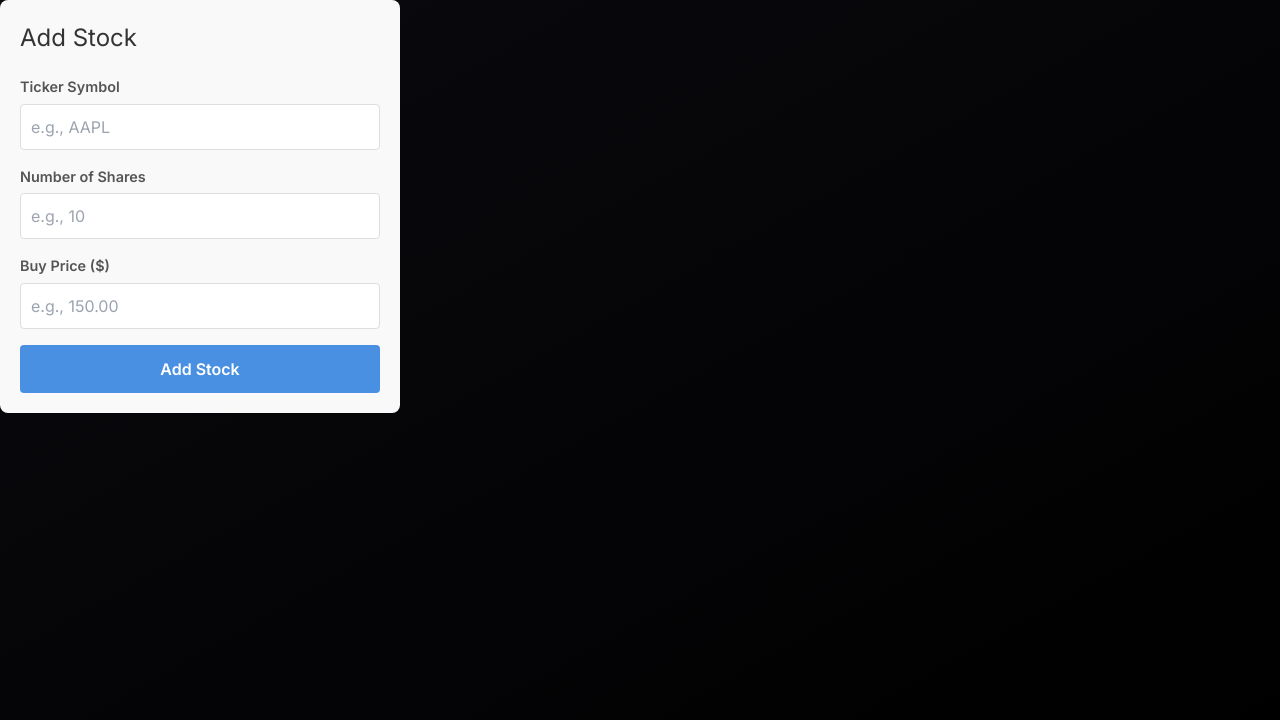
AddStockForm › Validation - Empty Fields (Requirement 4.1) › should show error when ticker is empty
Step 1. Click the button "Add Stock" → click(200, 369), box [20,345,380,393]
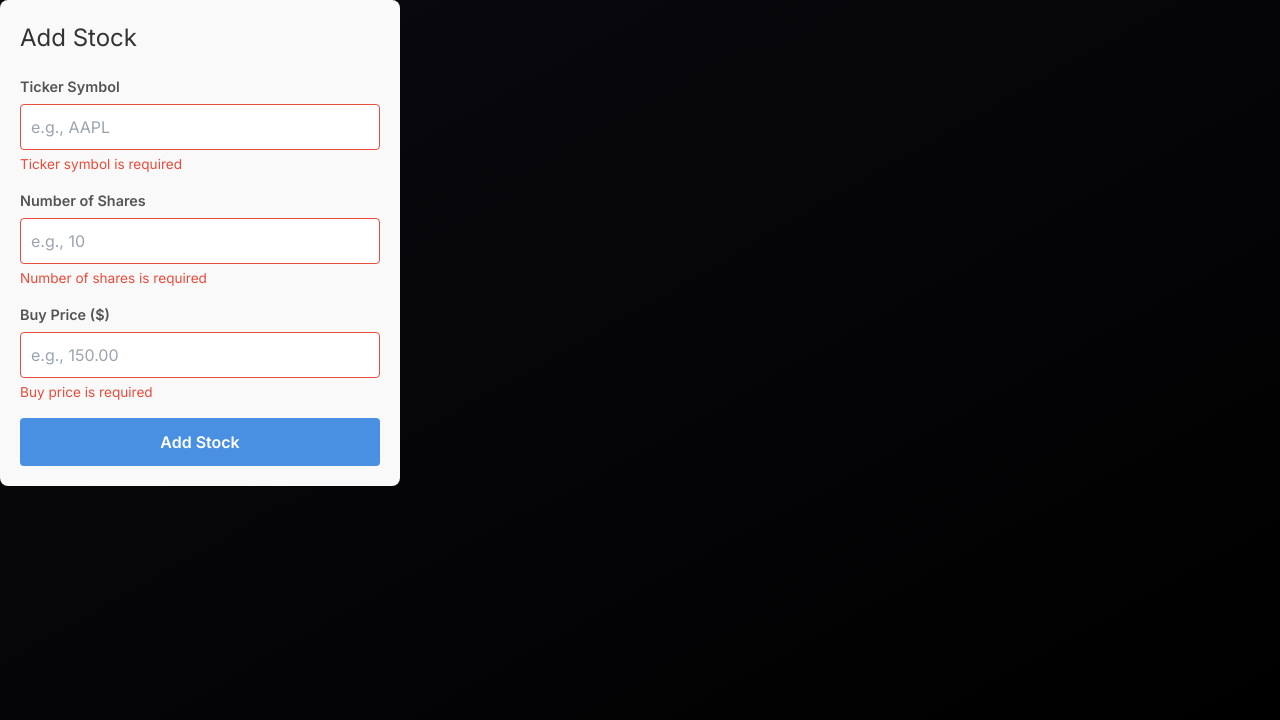
Now the text "Ticker symbol is required" is shown, box [20,156,182,172]
